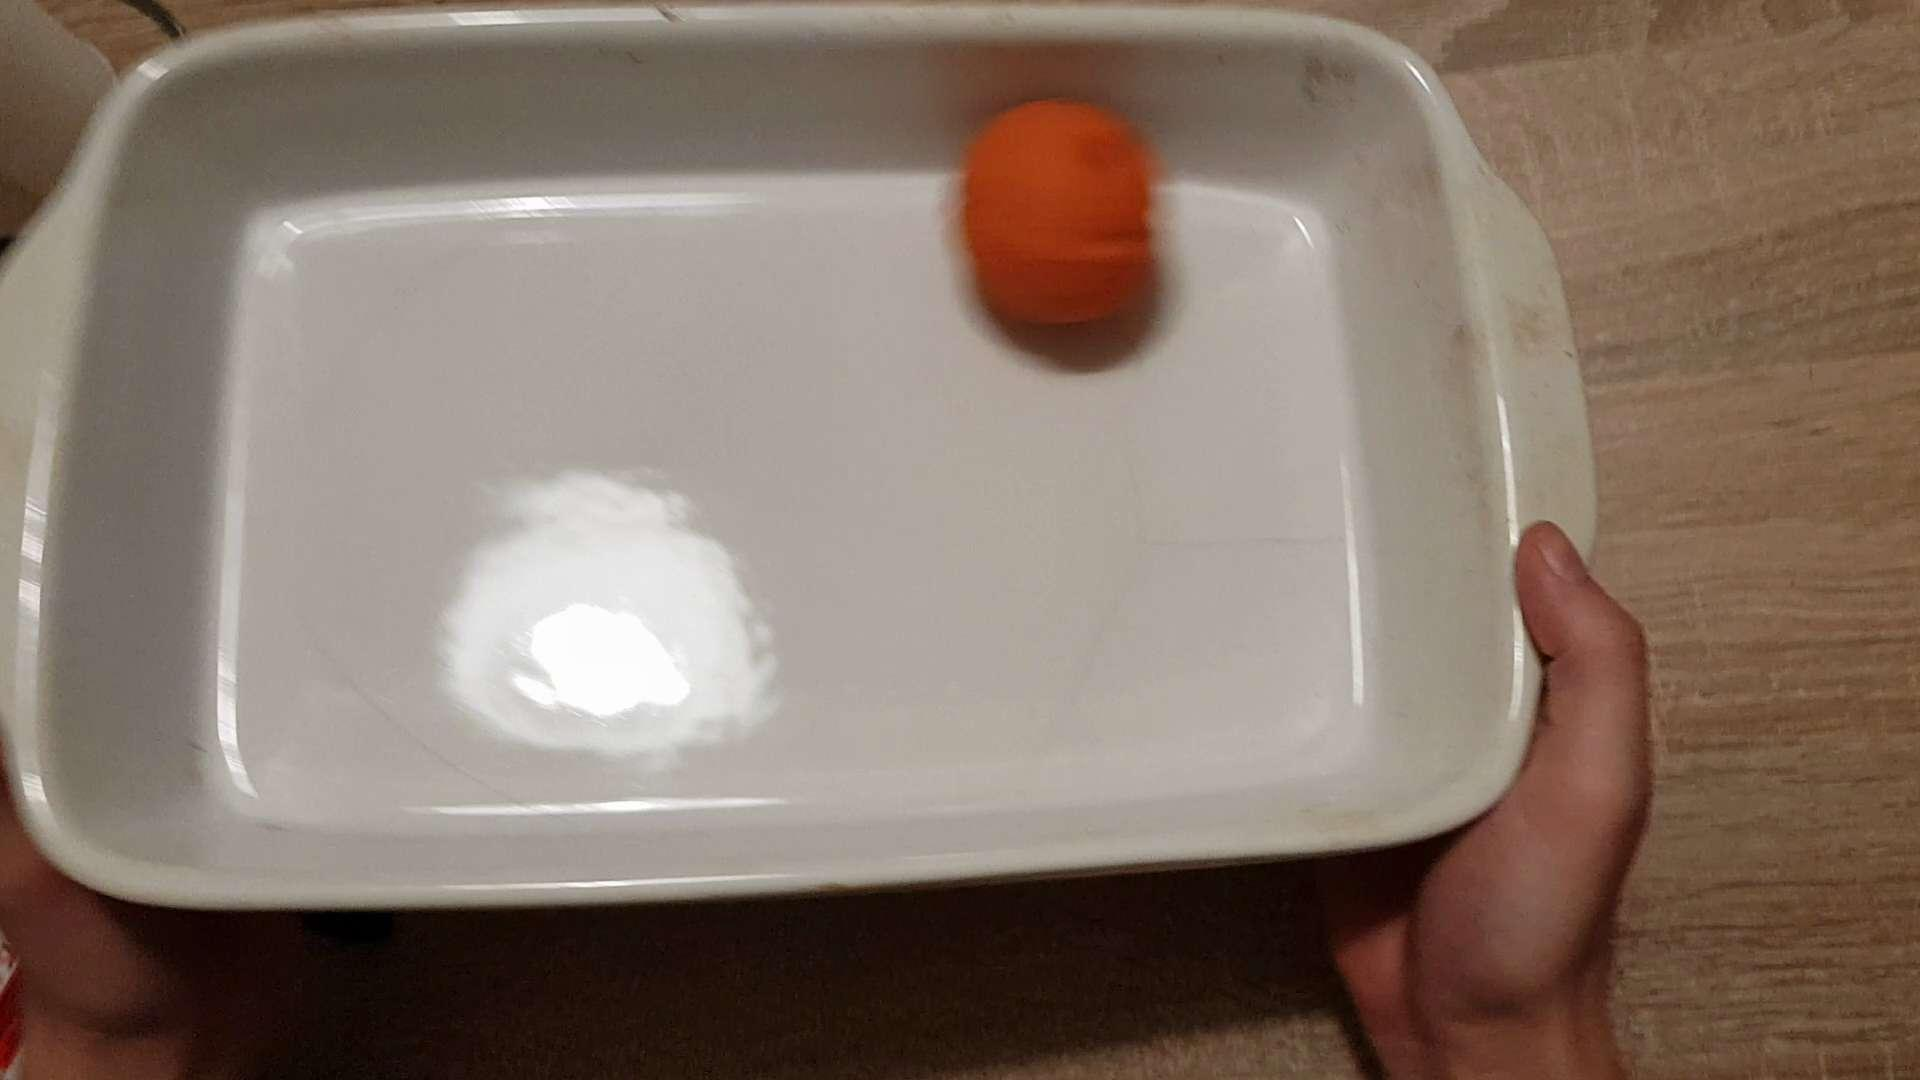Sphere: (948, 87, 1168, 342)
